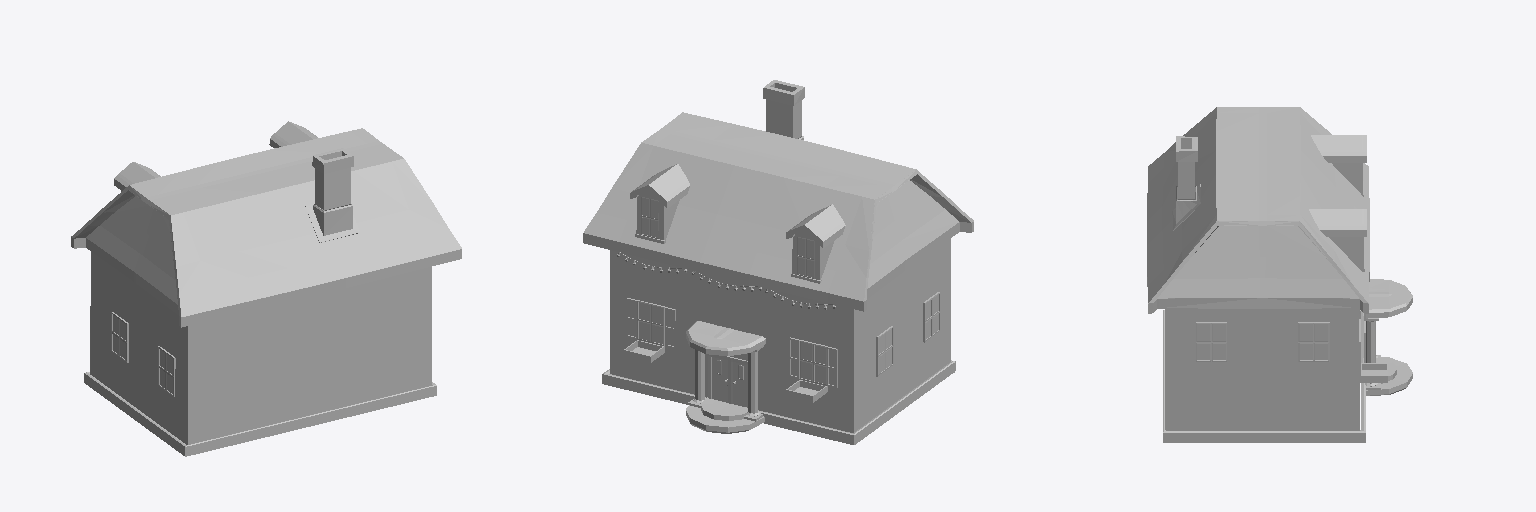
The model's file is House_Test_1.obj.
3 views of the same model, side by side, from view 1: azimuth 30°, elevation 25°; view 2: azimuth 150°, elevation 25°; view 3: azimuth 270°, elevation 25° (orthographic).
Visible parts, largest first — view 1: Roof_top_stright005, house_bottom_unwrap002, house_middle_wrap001, house_base008, smoke_stack_004, base_for_smokestack004, window029, roof_window005, window030, roof_window004; view 2: Roof_top_stright005, house_middle_wrap001, house_bottom_unwrap002, house_base008, roof_window005, roof_window004, window_with_box020, window_with_box019, smoke_stack_004, Object791, steps004, double_door005 (+3 smaller); view 3: Roof_top_stright005, house_bottom_unwrap002, house_middle_wrap001, house_base008, roof_window005, roof_window004, Object791, window028, window027, smoke_stack_004, steps004, window_with_box019 (+1 smaller).
Part boxes in pixels (left/top/right/bottom): Roof_top_stright005: left=71, top=128, right=461, bottom=327; house_bottom_unwrap002: left=90, top=306, right=431, bottom=444; house_middle_wrap001: left=91, top=252, right=431, bottom=378; house_base008: left=84, top=372, right=436, bottom=456; smoke_stack_004: left=312, top=148, right=353, bottom=210; base_for_smokestack004: left=305, top=203, right=359, bottom=242; window029: left=111, top=312, right=128, bottom=362; roof_window005: left=269, top=121, right=317, bottom=147; window030: left=158, top=346, right=175, bottom=396; roof_window004: left=114, top=162, right=160, bottom=191; Roof_top_stright005: left=583, top=112, right=973, bottom=311; house_middle_wrap001: left=610, top=238, right=950, bottom=364; house_bottom_unwrap002: left=610, top=294, right=950, bottom=432; house_base008: left=602, top=360, right=955, bottom=444; roof_window005: left=630, top=164, right=689, bottom=243; roof_window004: left=786, top=204, right=845, bottom=283; window_with_box020: left=786, top=337, right=837, bottom=402; window_with_box019: left=624, top=298, right=675, bottom=362; smoke_stack_004: left=763, top=80, right=804, bottom=138; Object791: left=686, top=321, right=765, bottom=355; steps004: left=686, top=397, right=764, bottom=433; double_door005: left=708, top=354, right=747, bottom=407; Roof_top_stright005: left=1147, top=107, right=1369, bottom=313; house_bottom_unwrap002: left=1165, top=309, right=1359, bottom=430; house_middle_wrap001: left=1165, top=309, right=1358, bottom=363; house_base008: left=1163, top=310, right=1365, bottom=442; roof_window005: left=1309, top=209, right=1366, bottom=271; roof_window004: left=1311, top=135, right=1366, bottom=196; Object791: left=1363, top=279, right=1412, bottom=318; window028: left=1298, top=322, right=1329, bottom=361; window027: left=1196, top=322, right=1226, bottom=361; smoke_stack_004: left=1176, top=136, right=1197, bottom=199; steps004: left=1363, top=357, right=1412, bottom=395; window_with_box019: left=1359, top=319, right=1387, bottom=382.
Bounding box in the file's own units: 14.98 × 12.94 × 12.32.